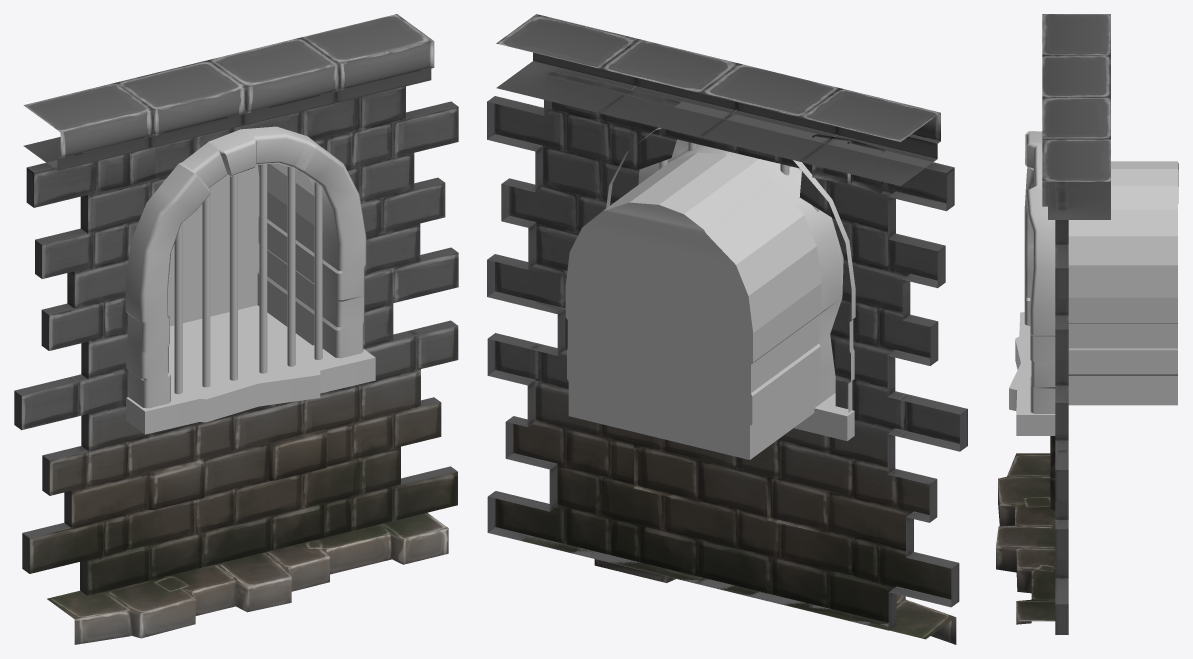
File: Window.fbx
3 renders of one model, left to right at view 1: azimuth 30°, elevation 25°; view 2: azimuth 150°, elevation 25°; view 3: azimuth 270°, elevation 25°, orthographic. The views are drawn at different scales.
Parts seen in each view (by area): view 1: BD_Wall_Straight, BD_Window_LP; view 2: BD_Wall_Straight, BD_Window_LP; view 3: BD_Window_LP, BD_Wall_Straight.
Boxes of the visible parts, x1=… form: BD_Wall_Straight: x1=14, y1=14, x2=458, y2=644; BD_Window_LP: x1=125, y1=126, x2=375, y2=434; BD_Wall_Straight: x1=487, y1=14, x2=967, y2=644; BD_Window_LP: x1=565, y1=127, x2=855, y2=459; BD_Window_LP: x1=1009, y1=131, x2=1178, y2=435; BD_Wall_Straight: x1=996, y1=14, x2=1110, y2=634.
Bounding box in the file's own units: 4.68 × 5.13 × 1.84.
